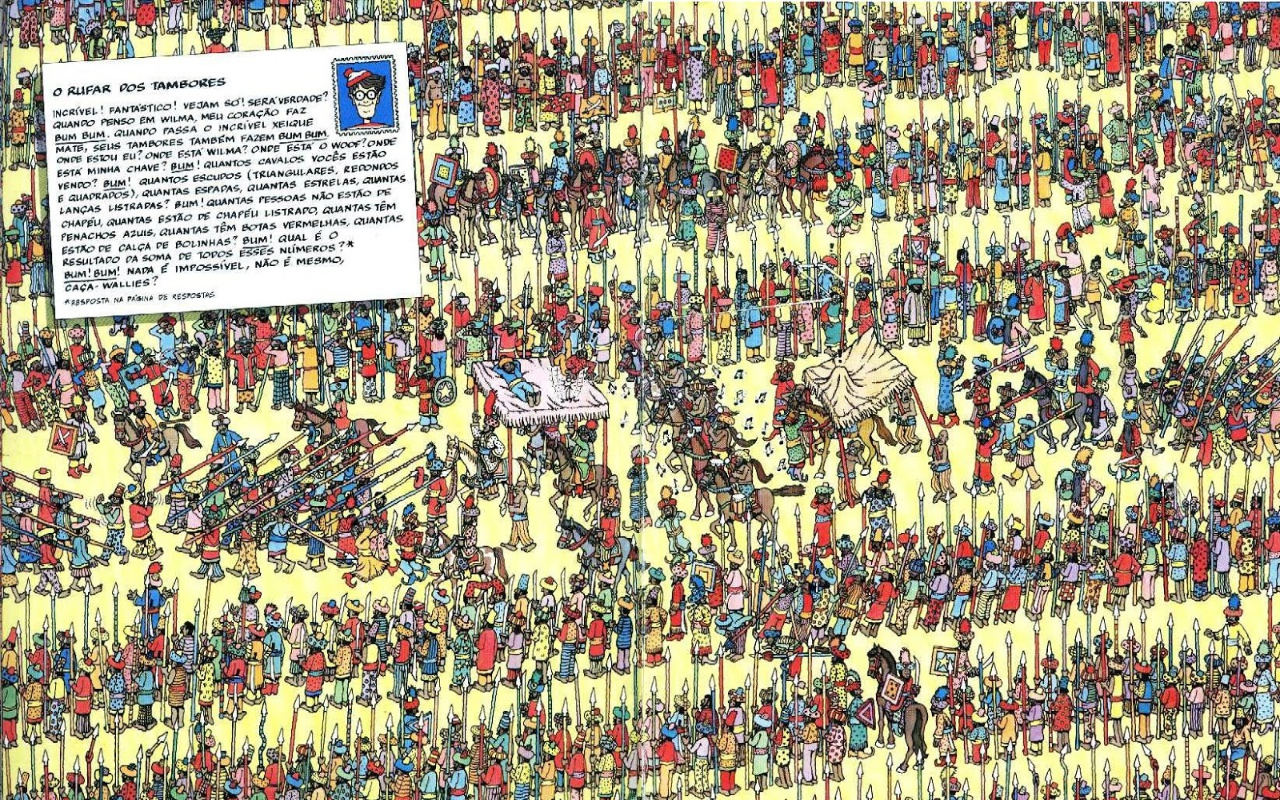waldo: (571, 129, 588, 156)
